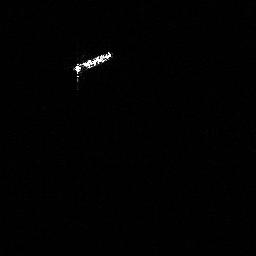ship: (70, 48, 116, 83)
